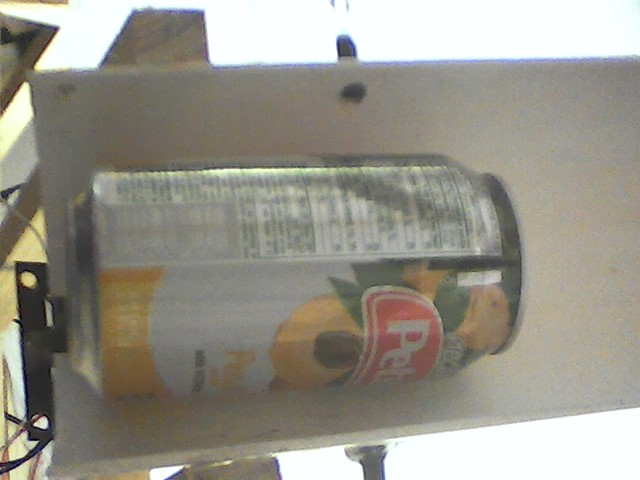lata: (58, 151, 534, 405)
